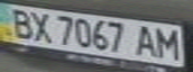0: (72, 16, 93, 50)
6: (90, 17, 112, 52)
7: (51, 12, 75, 47), (106, 19, 130, 54)
A: (130, 24, 160, 57)
B: (3, 6, 36, 39)
M: (151, 25, 184, 61)
X: (27, 9, 57, 43)
